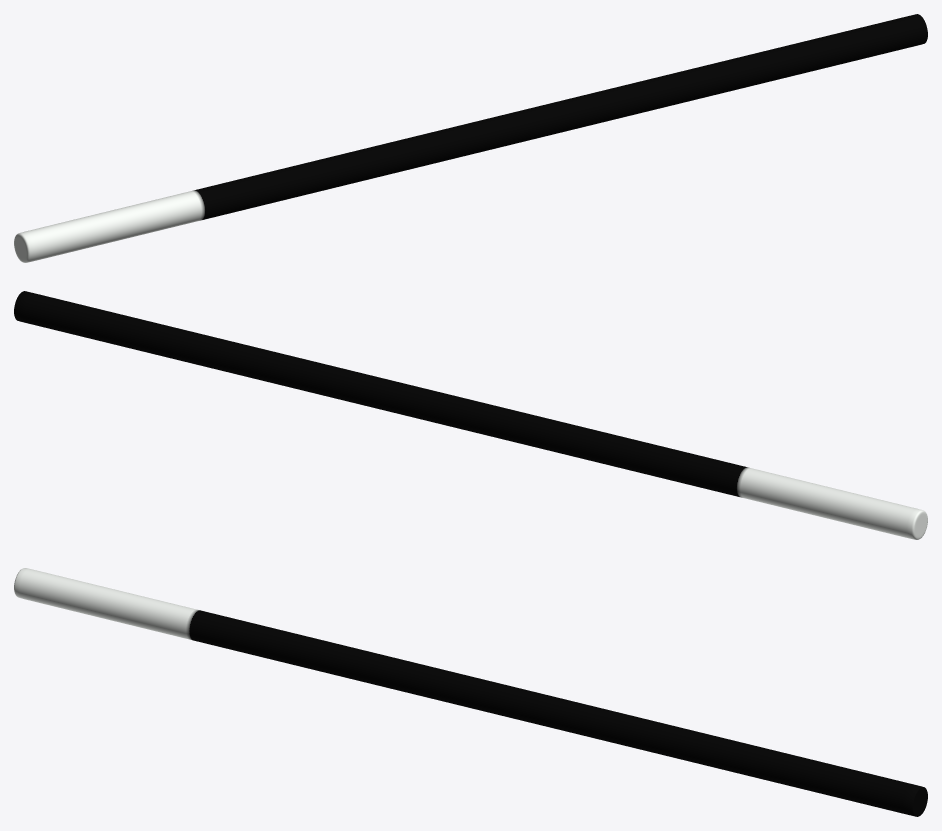
The model's file is magician_wand.glb.
The picture shows the model from 3 angles, top to bottom: view 1: azimuth 30°, elevation 25°; view 2: azimuth 150°, elevation 25°; view 3: azimuth 330°, elevation 25°; orthographic projection.
Visible parts, largest first — view 1: magician_wand; view 2: magician_wand; view 3: magician_wand.
Boxes of the visible parts, <box> form: magician_wand: <box>14,14,927,262</box>; magician_wand: <box>14,291,927,539</box>; magician_wand: <box>14,568,927,816</box>.
Size of the model in its own units: 0.4847 by 0.0145 by 0.0145.
1 material, 1 textured.
